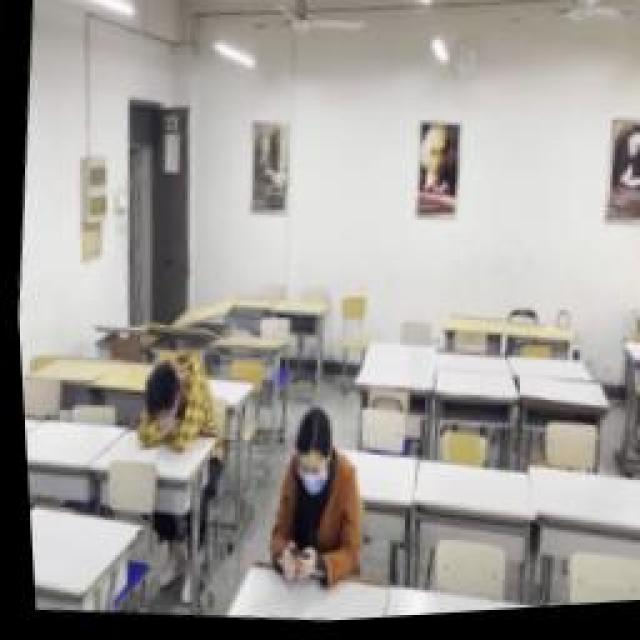phone: (253, 405, 365, 593)
sleep: (127, 345, 215, 457)
